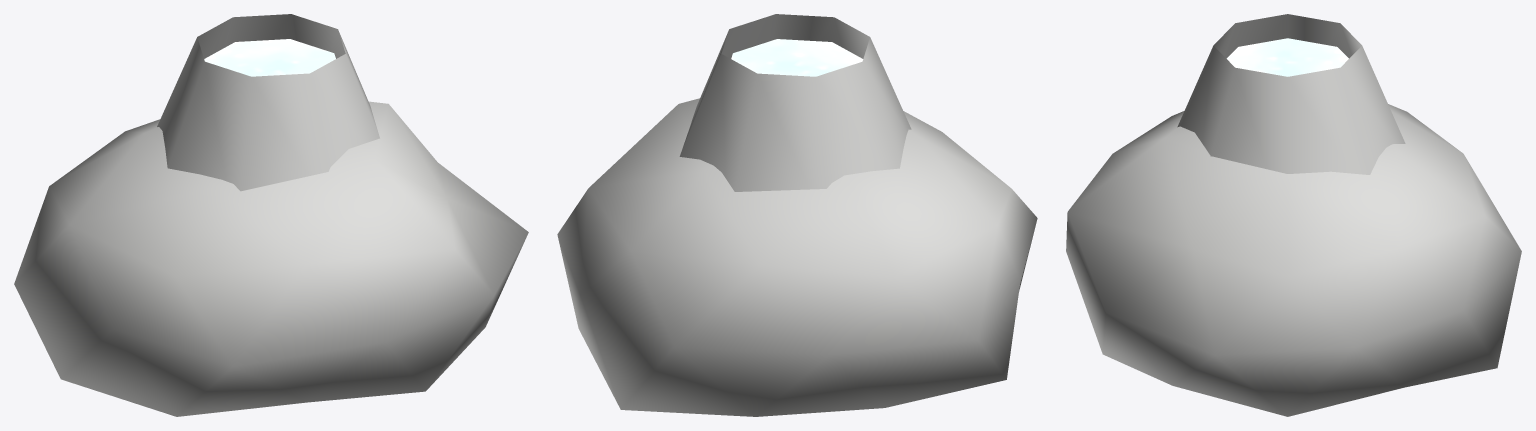
Rendered from SM_ENV_Ocean_Vent_Rock.fbx.
The picture shows the model from 3 angles, left to right: view 1: azimuth 30°, elevation 25°; view 2: azimuth 150°, elevation 25°; view 3: azimuth 270°, elevation 25°; orthographic projection. The views are drawn at different scales.
Parts seen in each view (by area): view 1: SM_ENV_Ocean_Vent_Rock; view 2: SM_ENV_Ocean_Vent_Rock; view 3: SM_ENV_Ocean_Vent_Rock.
Boxes of the visible parts, <box> form: SM_ENV_Ocean_Vent_Rock: <box>14,14,528,416</box>; SM_ENV_Ocean_Vent_Rock: <box>557,14,1037,416</box>; SM_ENV_Ocean_Vent_Rock: <box>1066,14,1521,416</box>.
Size of the model in its own units: 1.19 by 0.778 by 1.1.
